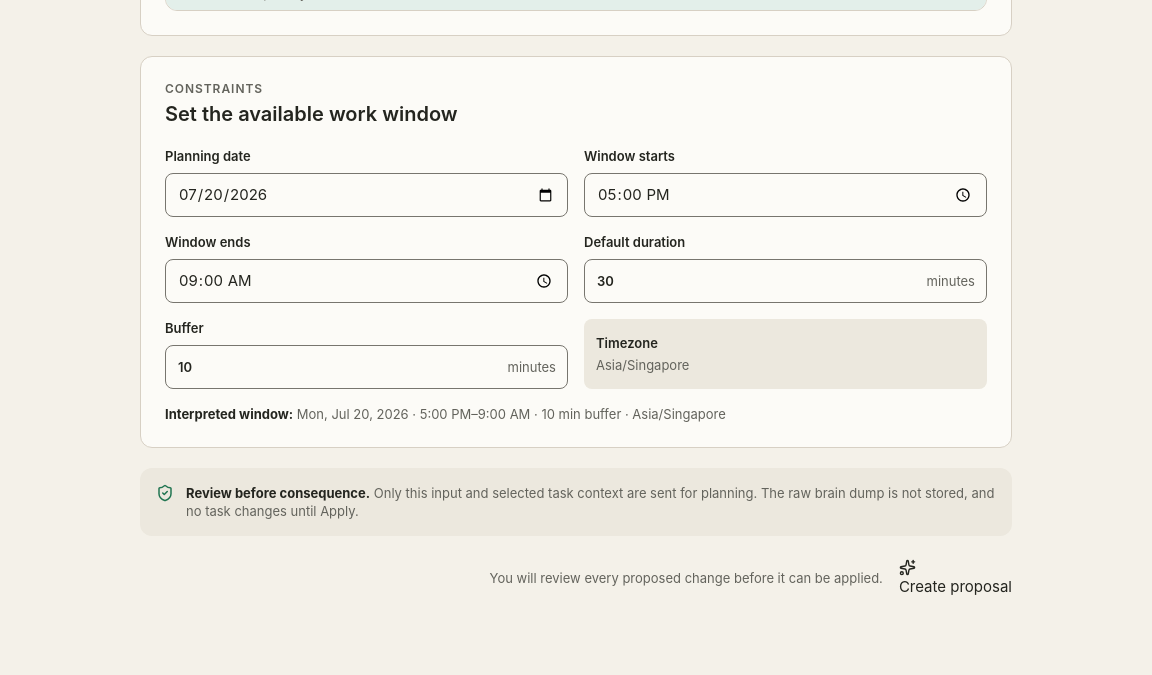
Test: Assistant planner Describe and Processing › validates the work window and moves focus to a recoverable error summary
(page scrolled)
What coordinates should you click on to do the following:
click the button "Create proposal"
I would click on:
 (955, 578)
Its box is x1=899 y1=558 x2=1012 y2=598.
(page scrolled)
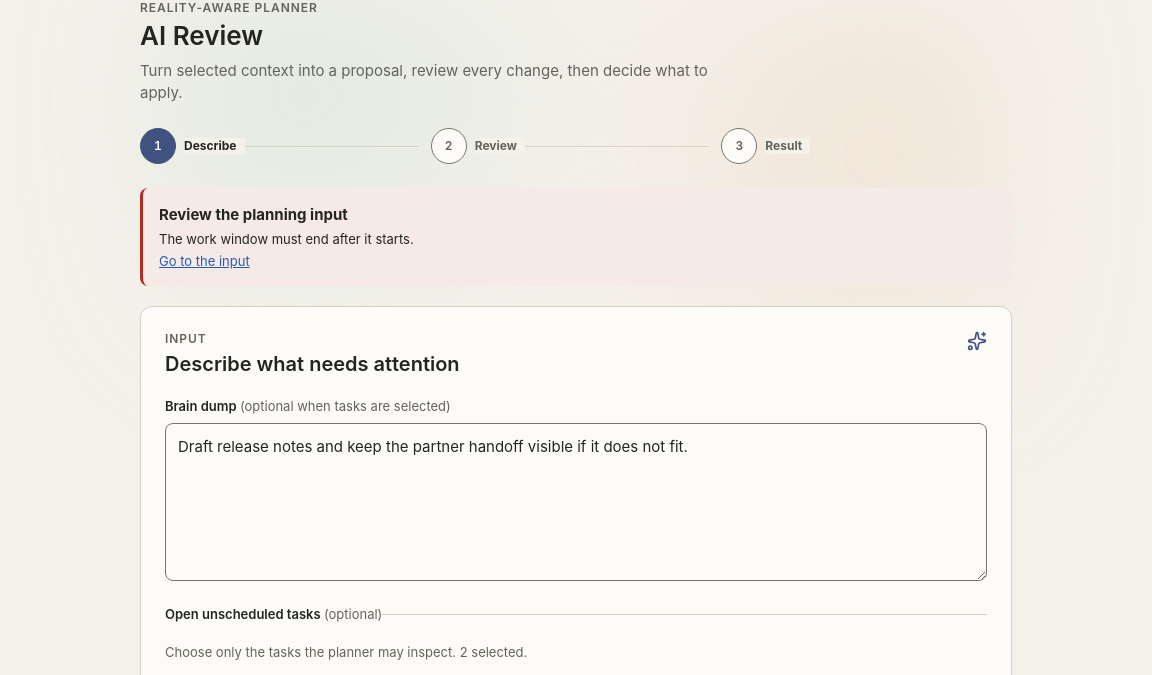
Expected: the message shows "The work window must end after it starts.", x1=159 y1=231 x2=414 y2=247
